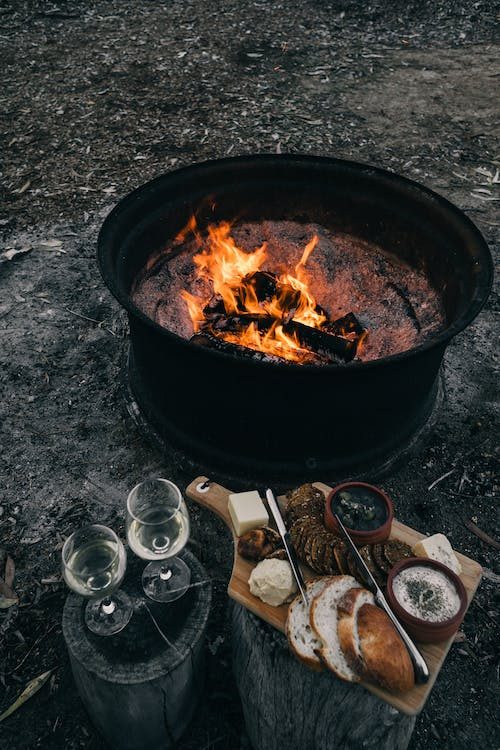alcohol: (123, 473, 194, 605), (61, 522, 136, 638)
knife: (333, 512, 431, 687), (263, 481, 313, 611)
